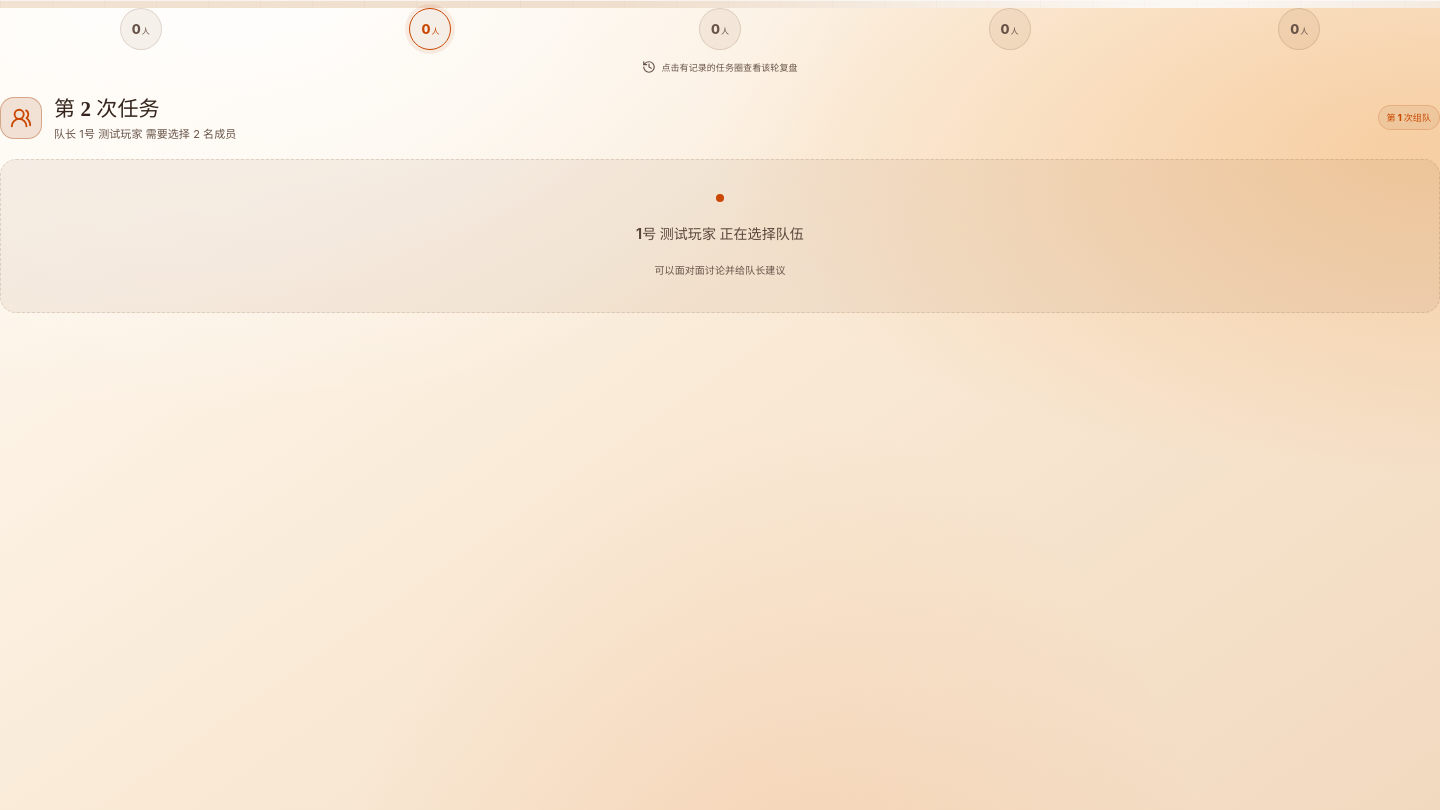
Test: AvalonTable role reveal › opens a mission-specific replay from the mission track
Click the 1st button with class "mission-node": (141, 29) [120,8,162,50]
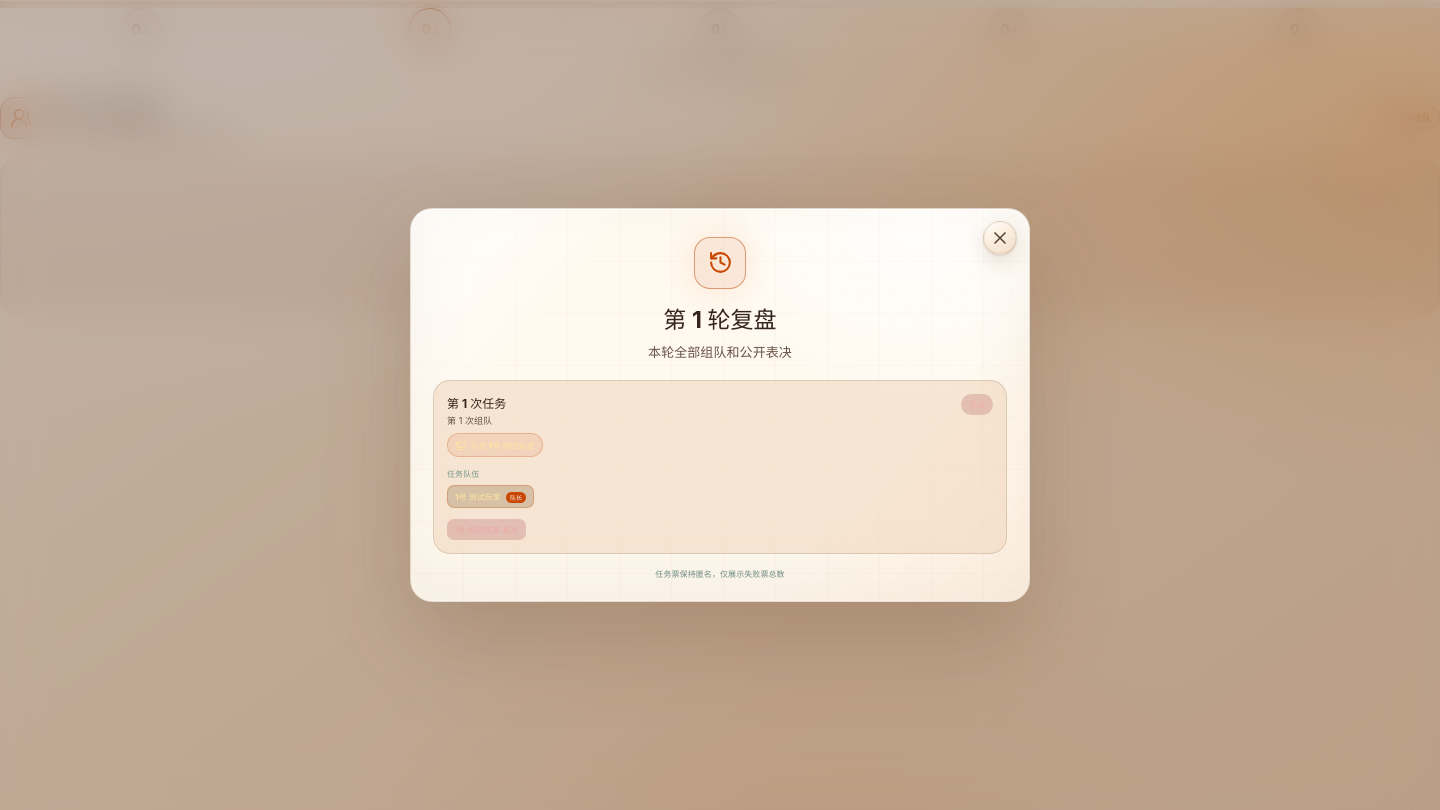
Check: the heading "第 1 轮复盘" is shown, box [663,306,777,334]
